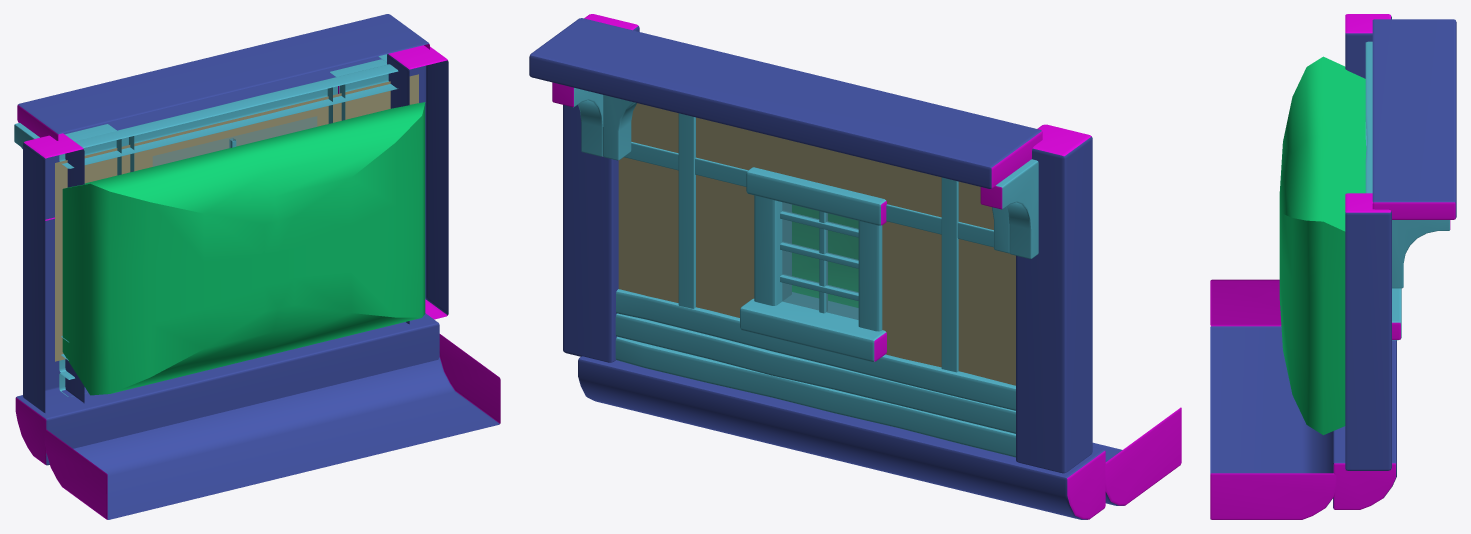
The model's file is SM_Hous1Front_2Floor_R.fbx.
3 renders of one model, left to right at view 1: azimuth 30°, elevation 25°; view 2: azimuth 150°, elevation 25°; view 3: azimuth 270°, elevation 25°, orthographic. The views are drawn at different scales.
Parts seen in each view (by area): view 1: SM_Hous1Front_2stFloor; view 2: SM_Hous1Front_2stFloor; view 3: SM_Hous1Front_2stFloor.
Boxes of the visible parts, <box> form: SM_Hous1Front_2stFloor: <box>14,14,500,519</box>; SM_Hous1Front_2stFloor: <box>529,14,1181,519</box>; SM_Hous1Front_2stFloor: <box>1210,14,1456,519</box>.
Bounding box in the file's own units: 4.5 × 3.37 × 2.32.
